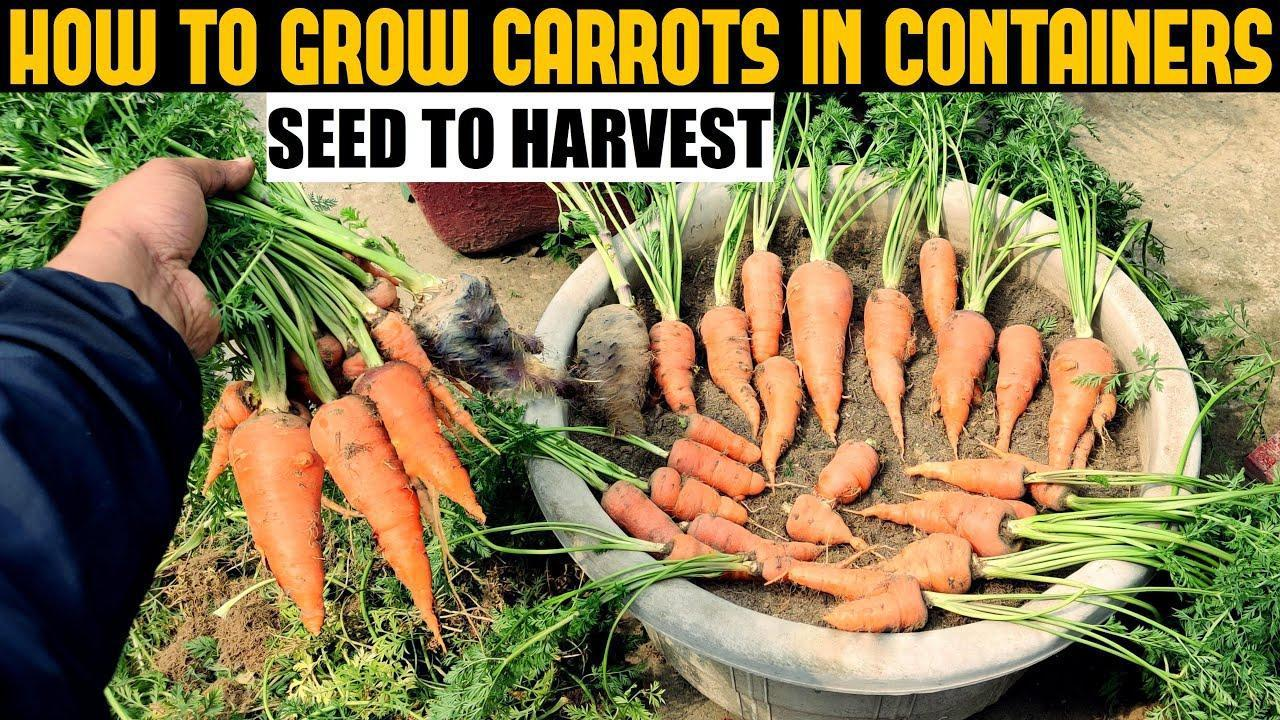carrot: (308, 352, 480, 657), (887, 124, 1041, 448), (198, 374, 337, 642), (596, 477, 790, 585), (722, 191, 795, 473), (794, 146, 851, 443), (789, 554, 969, 637), (863, 483, 1062, 558), (1065, 177, 1108, 465), (667, 407, 765, 532), (653, 317, 760, 424), (913, 453, 1072, 503), (782, 489, 853, 564), (818, 446, 874, 502)
